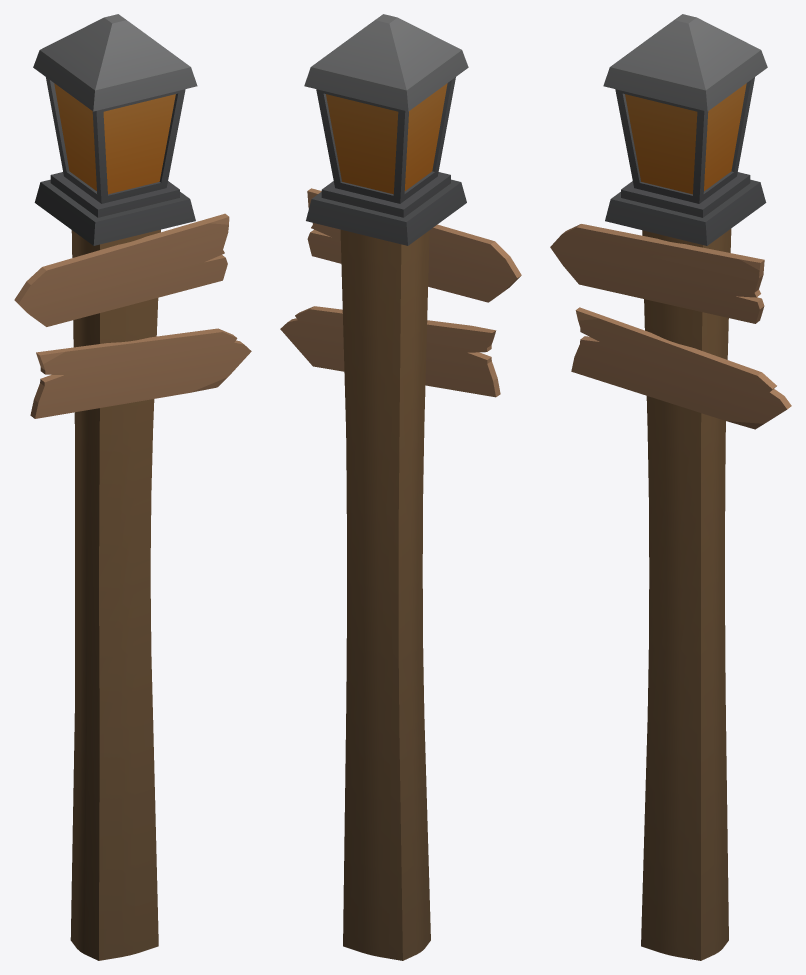
The model's file is Lantern_03.fbx.
The picture shows the model from 3 angles, left to right: view 1: azimuth 30°, elevation 25°; view 2: azimuth 150°, elevation 25°; view 3: azimuth 330°, elevation 25°; orthographic projection.
Visible parts, largest first — view 1: Lantern_03_LOD0; view 2: Lantern_03_LOD0; view 3: Lantern_03_LOD0.
Part boxes in pixels (left/top/right/bottom): Lantern_03_LOD0: left=14, top=14, right=251, bottom=960; Lantern_03_LOD0: left=280, top=14, right=521, bottom=960; Lantern_03_LOD0: left=550, top=14, right=791, bottom=960.
Size of what is drawn, in the model's own units: 0.565 by 2.12 by 0.2506.
